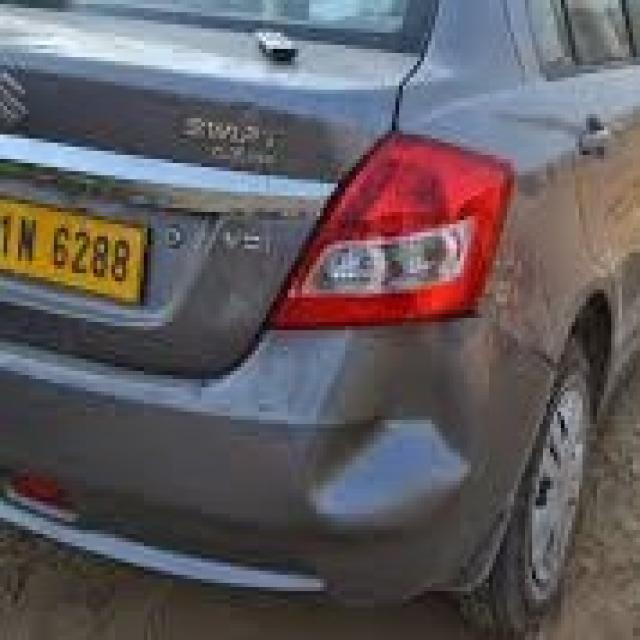minor: (312, 270, 568, 559)
